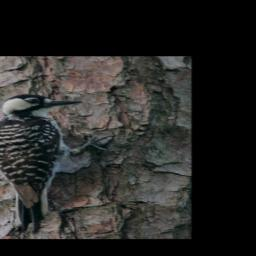Woodpecker: (0, 93, 120, 234)
